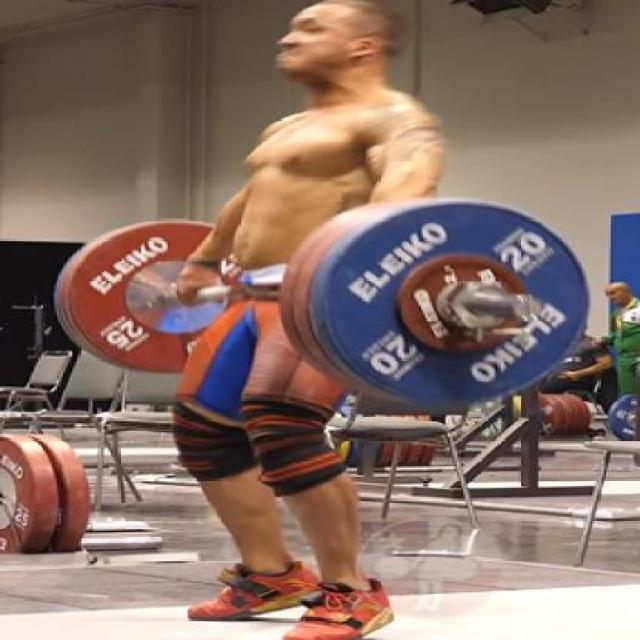barbell: (275, 193, 612, 412)
